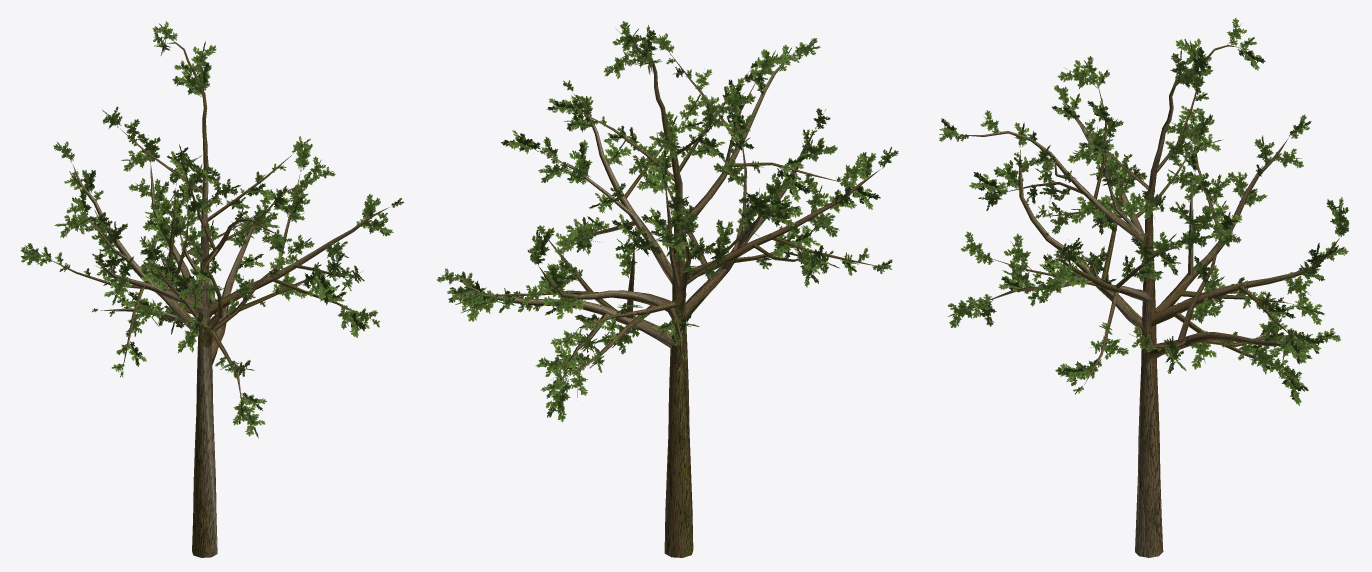
The model's file is oak-mature.glb.
3 views of the same model, side by side, from view 1: azimuth 30°, elevation 25°; view 2: azimuth 150°, elevation 25°; view 3: azimuth 270°, elevation 25° (orthographic). The views are drawn at different scales.
Parts seen in each view (by area): view 1: needles, bark; view 2: needles, bark; view 3: needles, bark.
Part boxes in pixels (x1=…): needles: x1=20, y1=21, x2=403, y2=438; bark: x1=51, y1=42, x2=389, y2=557; needles: x1=436, y1=21, x2=898, y2=422; bark: x1=462, y1=40, x2=880, y2=557; needles: x1=939, y1=18, x2=1349, y2=405; bark: x1=963, y1=45, x2=1339, y2=557.
Bounding box in the file's own units: 6.13 × 9.4 × 6.77.
2 materials, 2 textured.
